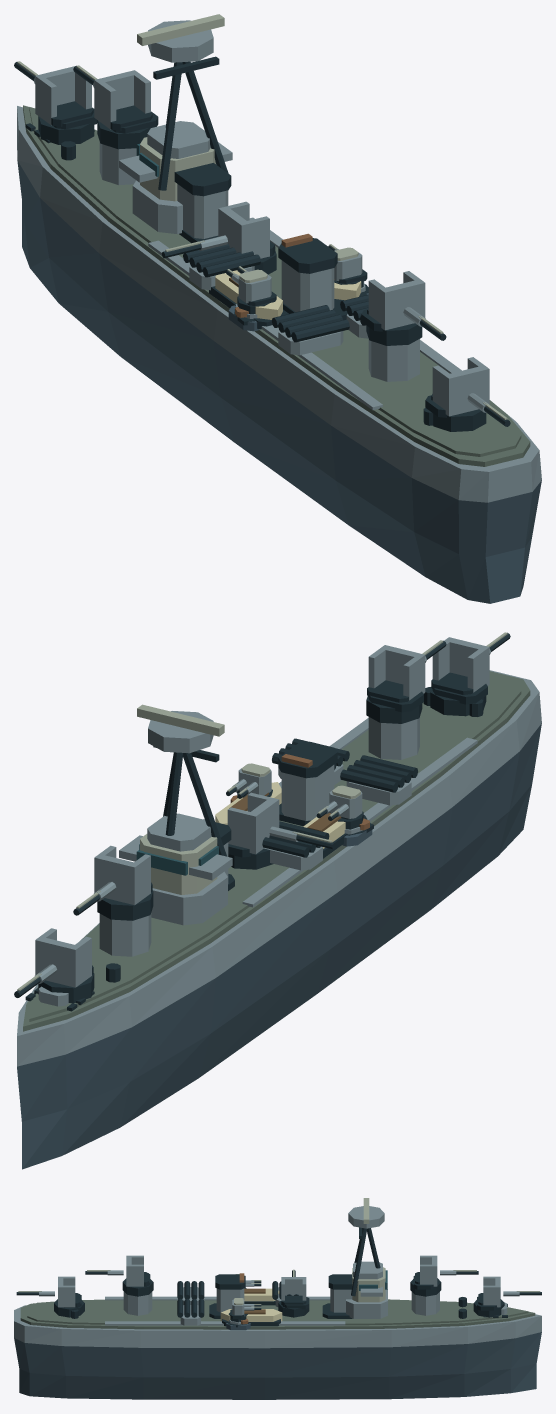
File: historic-mahan.glb
3 views of the same model, one above another, from view 1: azimuth 30°, elevation 25°; view 2: azimuth 150°, elevation 25°; view 3: azimuth 270°, elevation 25° (orthographic). The views are drawn at different scales.
Parts seen in each view (by area): view 1: historic-mahan-historic-mahan-geometry, historic-mahan-part_bridge.124-geometry, historic-mahan-turret_main_1.086-geometry, historic-mahan-turret_main_0.093-geometry, historic-mahan-historic_funnel_1.067-geometry, historic-mahan-turret_main_3.047-geometry, historic-mahan-turret_main_4.016-geometry, historic-mahan-historic_funnel_0.117-geometry, historic-mahan-turret_main_2.072-geometry, historic-mahan-torpedo_bank_0.033-geometry, historic-mahan-torpedo_bank_2.009-geometry, historic-mahan-turret_aa_aa-port.126-geometry (+2 smaller); view 2: historic-mahan-historic-mahan-geometry, historic-mahan-part_bridge.124-geometry, historic-mahan-turret_main_3.047-geometry, historic-mahan-turret_main_4.016-geometry, historic-mahan-historic_funnel_1.067-geometry, historic-mahan-turret_main_1.086-geometry, historic-mahan-turret_main_2.072-geometry, historic-mahan-turret_main_0.093-geometry, historic-mahan-torpedo_bank_0.033-geometry, historic-mahan-torpedo_bank_2.009-geometry, historic-mahan-turret_aa_aa-port.126-geometry, historic-mahan-turret_aa_aa-starboard.122-geometry; view 3: historic-mahan-historic-mahan-geometry, historic-mahan-part_bridge.124-geometry, historic-mahan-turret_main_3.047-geometry, historic-mahan-turret_main_1.086-geometry, historic-mahan-turret_main_0.093-geometry, historic-mahan-turret_main_2.072-geometry, historic-mahan-turret_main_4.016-geometry, historic-mahan-historic_funnel_1.067-geometry, historic-mahan-historic_funnel_0.117-geometry, historic-mahan-torpedo_bank_1.030-geometry, historic-mahan-torpedo_bank_0.033-geometry, historic-mahan-turret_aa_aa-starboard.122-geometry.
Boxes of the visible parts, x1,y1,x2,y2 form: historic-mahan-historic-mahan-geometry: (17,105,541,603); historic-mahan-part_bridge.124-geometry: (119,14,232,234); historic-mahan-turret_main_1.086-geometry: (73,65,158,149); historic-mahan-turret_main_0.093-geometry: (14,61,97,144); historic-mahan-historic_funnel_1.067-geometry: (278,233,347,319); historic-mahan-turret_main_3.047-geometry: (361,271,446,345); historic-mahan-turret_main_4.016-geometry: (425,357,510,431); historic-mahan-historic_funnel_0.117-geometry: (174,163,231,243); historic-mahan-turret_main_2.072-geometry: (162,201,276,274); historic-mahan-torpedo_bank_0.033-geometry: (272,305,349,355); historic-mahan-torpedo_bank_2.009-geometry: (183,243,260,290); historic-mahan-turret_aa_aa-port.126-geometry: (226,266,276,314); historic-mahan-historic-mahan-geometry: (17,670,541,1169); historic-mahan-part_bridge.124-geometry: (119,704,232,925); historic-mahan-turret_main_3.047-geometry: (366,640,446,723); historic-mahan-turret_main_4.016-geometry: (430,632,510,716); historic-mahan-historic_funnel_1.067-geometry: (278,741,337,826); historic-mahan-turret_main_1.086-geometry: (73,845,153,920); historic-mahan-turret_main_2.072-geometry: (227,792,335,869); historic-mahan-turret_main_0.093-geometry: (14,928,94,1003); historic-mahan-torpedo_bank_0.033-geometry: (340,755,417,805); historic-mahan-torpedo_bank_2.009-geometry: (262,821,329,870); historic-mahan-turret_aa_aa-port.126-geometry: (316,785,363,829); historic-mahan-turret_aa_aa-starboard.122-geometry: (226,763,272,798); historic-mahan-historic-mahan-geometry: (14,1288,541,1399); historic-mahan-part_bridge.124-geometry: (346,1198,387,1318); historic-mahan-turret_main_3.047-geometry: (85,1255,153,1296); historic-mahan-turret_main_1.086-geometry: (410,1255,478,1296); historic-mahan-turret_main_0.093-geometry: (473,1276,541,1317); historic-mahan-turret_main_2.072-geometry: (278,1269,309,1317); historic-mahan-turret_main_4.016-geometry: (16,1276,84,1317); historic-mahan-historic_funnel_1.067-geometry: (209,1273,245,1318); historic-mahan-historic_funnel_0.117-geometry: (322,1274,352,1318); historic-mahan-torpedo_bank_1.030-geometry: (177,1298,204,1325); historic-mahan-torpedo_bank_0.033-geometry: (177,1281,204,1305); historic-mahan-turret_aa_aa-starboard.122-geometry: (228,1298,261,1322).
Bounding box in the file's own units: 0.7228 × 1.55 × 4.11.
